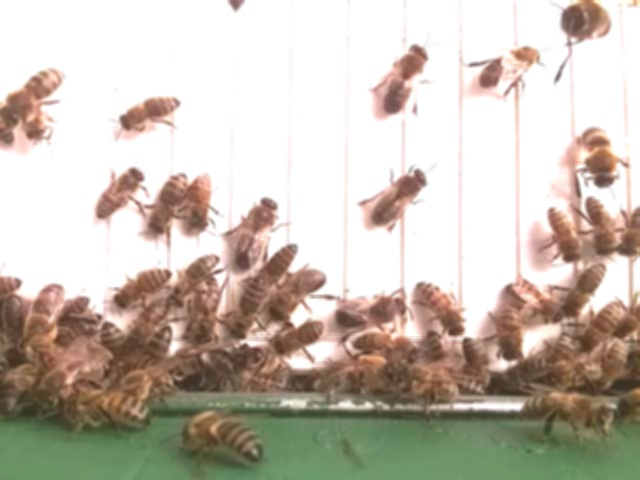Drone: (380, 39, 434, 117), (369, 166, 431, 228), (268, 263, 329, 326), (232, 192, 280, 272), (475, 43, 549, 93), (334, 291, 412, 331), (576, 123, 620, 191)
Worker: (412, 278, 469, 339), (91, 164, 149, 221), (10, 64, 68, 118), (110, 261, 175, 309), (146, 167, 190, 237), (186, 276, 225, 348), (172, 251, 222, 306), (501, 278, 566, 320), (118, 92, 184, 132), (226, 279, 264, 343), (566, 259, 608, 316), (272, 317, 328, 359), (582, 192, 618, 256), (546, 202, 583, 264), (258, 240, 302, 287), (186, 168, 217, 233), (495, 300, 526, 363)
